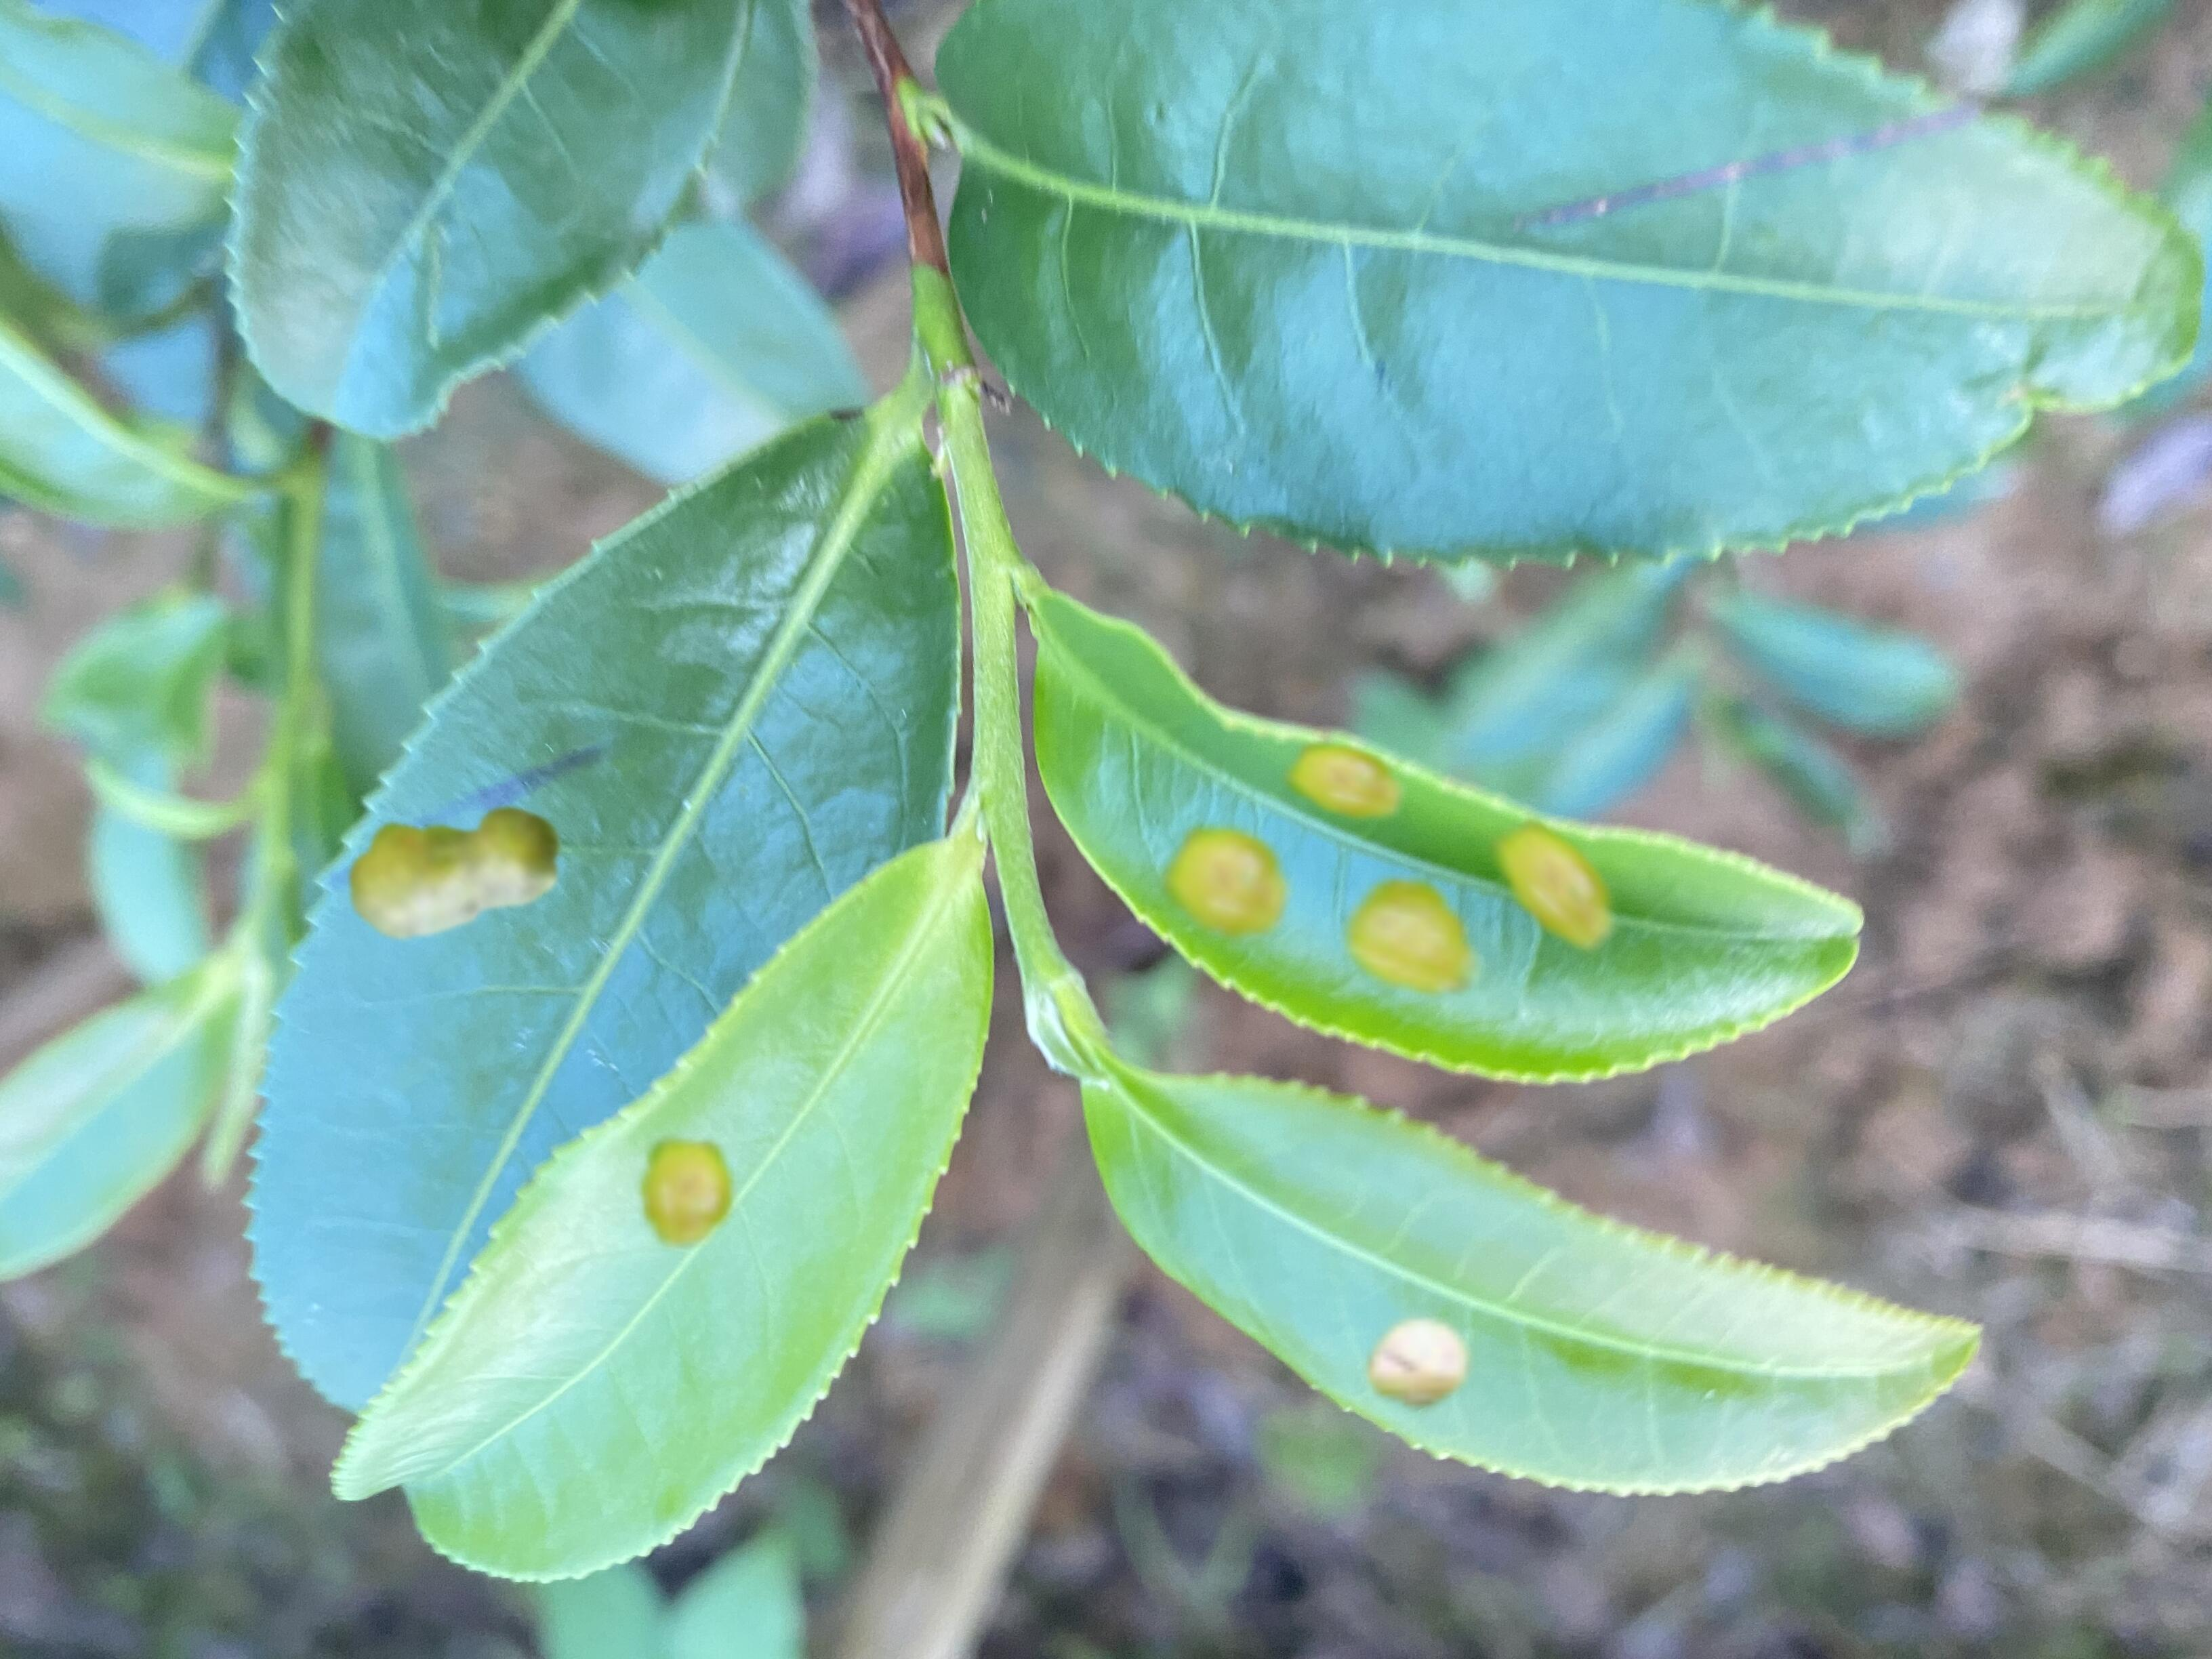chabing_high: (1031, 596, 1926, 1086)
chabing_low: (239, 408, 963, 1420), (334, 842, 1000, 1579), (1078, 1070, 1982, 1497)
healthy: (941, 5, 2203, 572), (221, 0, 754, 439)
